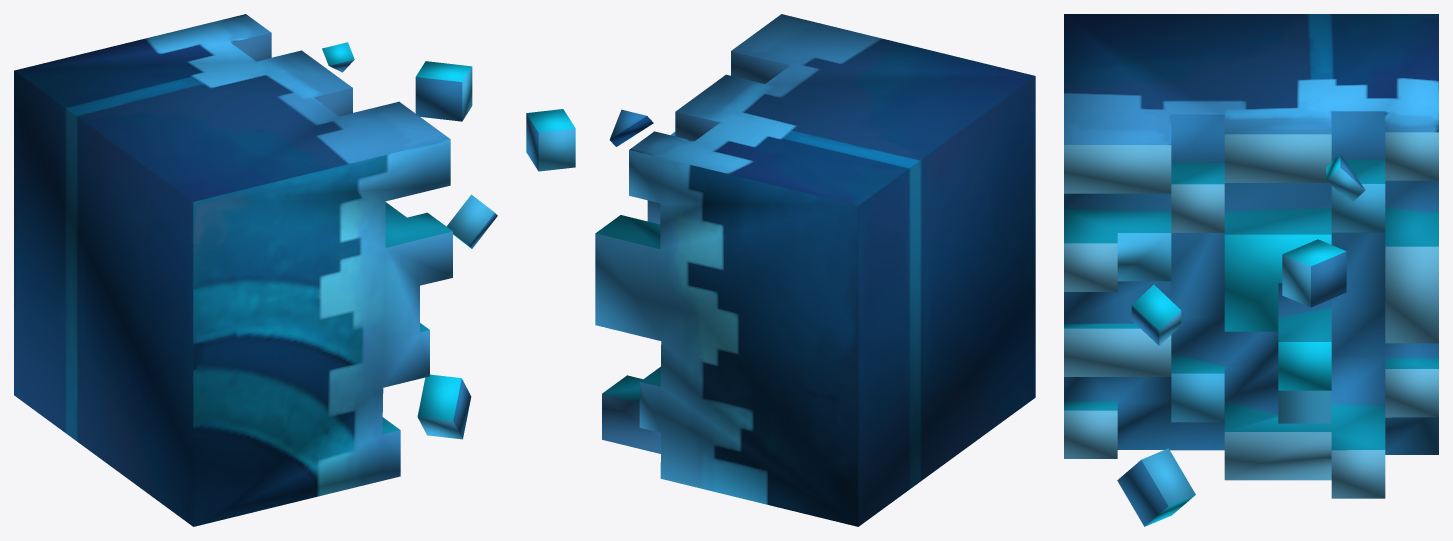
File: pvp_ zhuankuai_01.FBX
3 renders of one model, left to right at view 1: azimuth 30°, elevation 25°; view 2: azimuth 150°, elevation 25°; view 3: azimuth 270°, elevation 25°, orthographic. The views are drawn at different scales.
Parts seen in each view (by area): view 1: pvp_ zhuankuai_01; view 2: pvp_ zhuankuai_01; view 3: pvp_ zhuankuai_01.
Part boxes in pixels (x1,y1,x2,y2): pvp_ zhuankuai_01: (14,14,497,526); pvp_ zhuankuai_01: (526,14,1035,526); pvp_ zhuankuai_01: (1064,14,1438,526).
Bounding box in the file's own units: 2.3 × 1.89 × 1.8.
